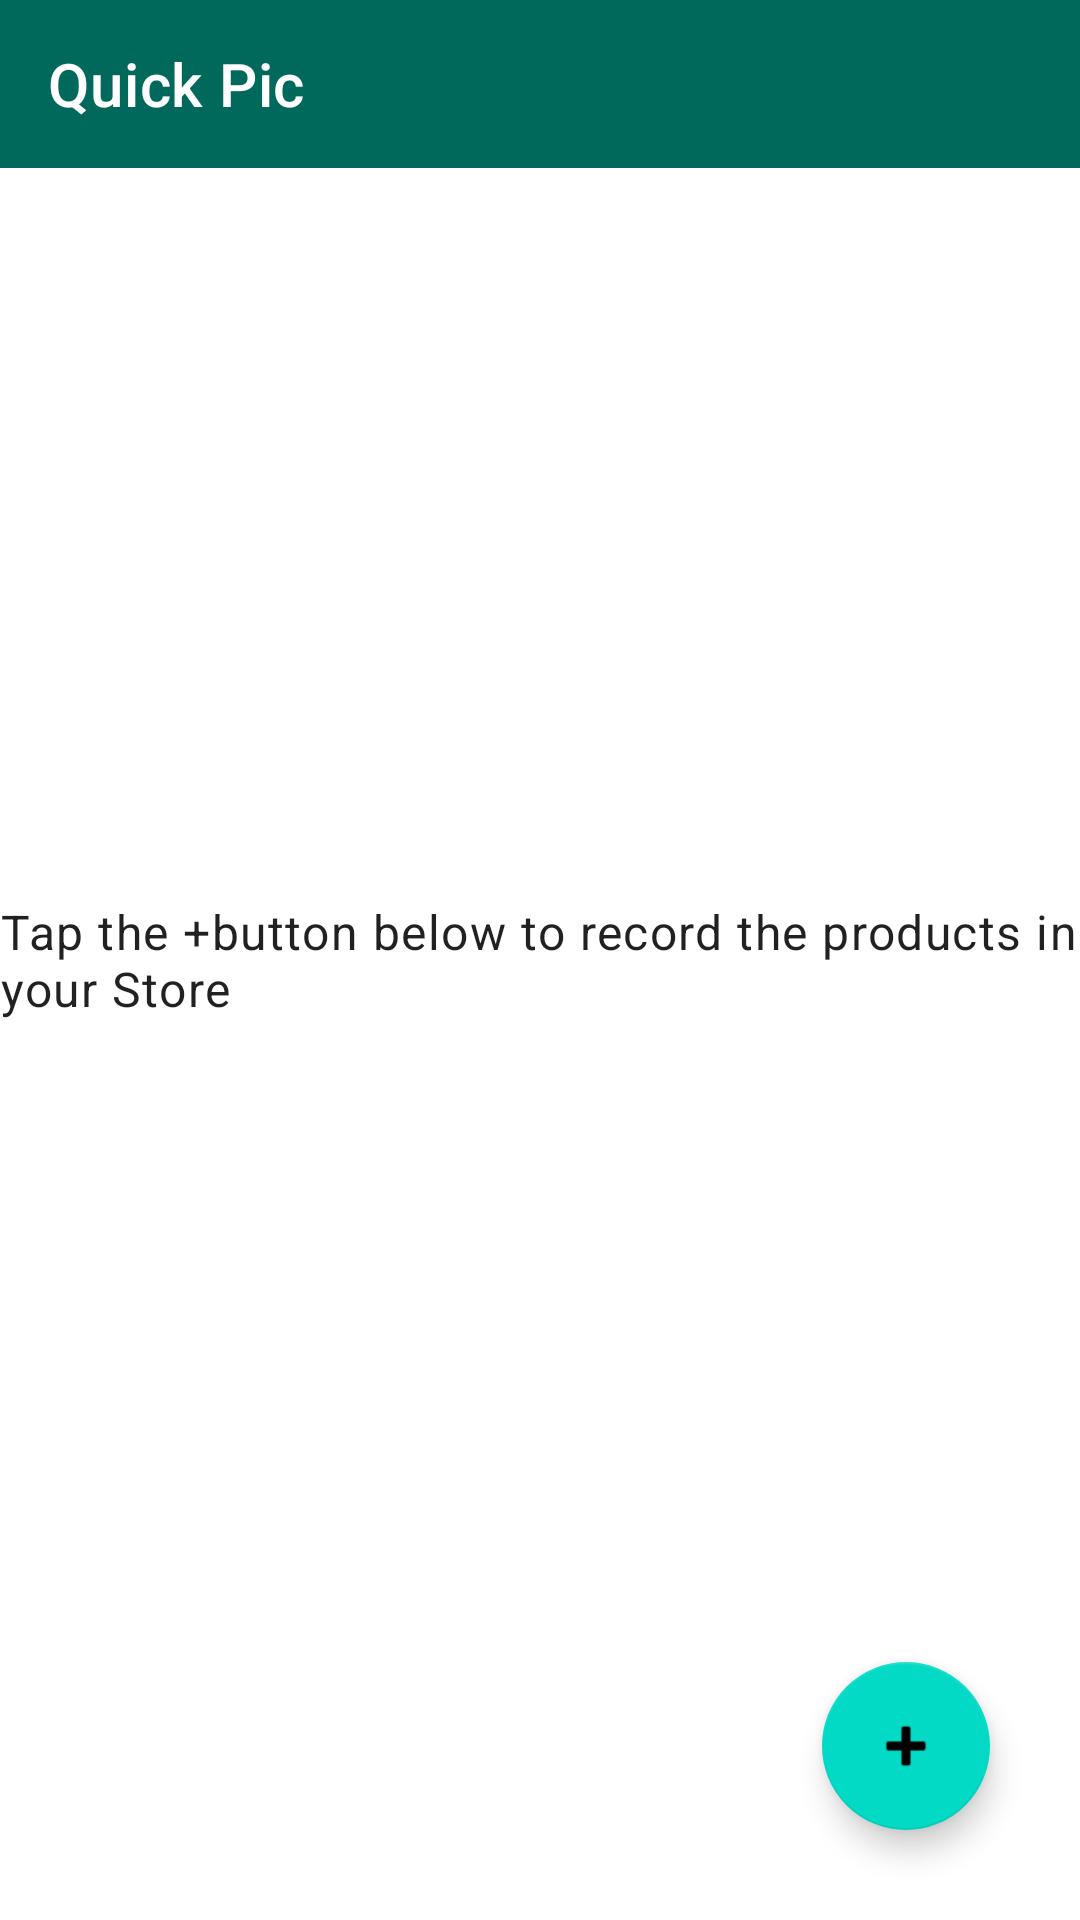

Locate icon controls on the screen. Image size 1080px x 1920px, boxes as bbox=(x1, y1, x2, y2).
Add Item: bbox=(822, 1662, 990, 1830)
